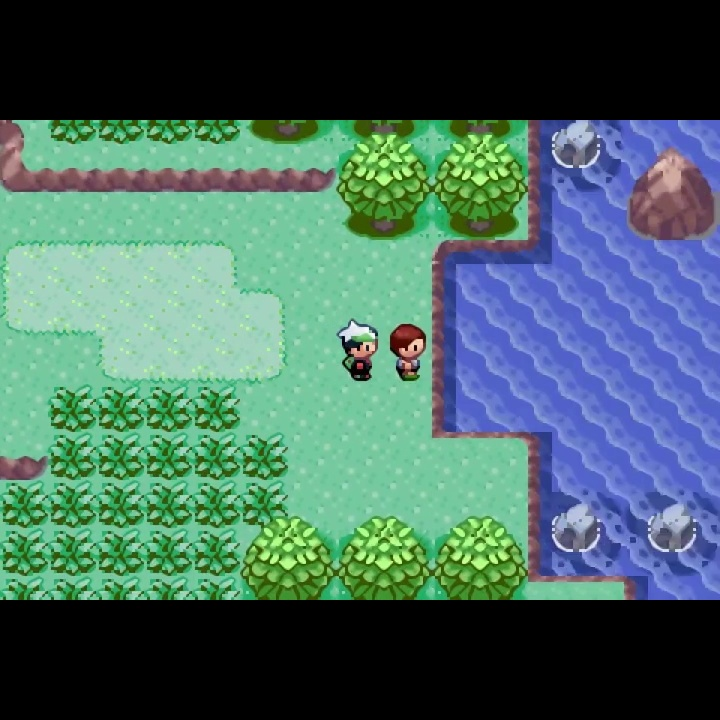grass: (96, 480, 148, 531), (142, 383, 193, 434), (48, 384, 98, 435), (49, 480, 100, 530), (239, 480, 290, 530), (47, 433, 99, 481), (192, 479, 241, 529), (1, 480, 49, 530), (1, 528, 49, 578), (192, 385, 240, 434), (96, 527, 144, 576), (145, 528, 193, 577), (194, 529, 243, 577), (240, 433, 288, 481), (98, 434, 146, 482), (145, 434, 194, 481), (50, 528, 97, 577), (97, 385, 144, 433), (193, 432, 240, 480), (145, 481, 193, 528), (144, 120, 194, 146), (48, 120, 97, 145), (96, 120, 144, 145), (193, 121, 241, 146), (49, 576, 99, 600), (1, 576, 50, 600), (193, 576, 244, 599), (145, 577, 194, 600), (98, 576, 146, 599)
npc: (334, 314, 381, 384), (386, 319, 429, 387)
wall: (336, 136, 432, 240), (432, 135, 527, 240), (241, 515, 339, 600), (433, 513, 527, 600), (338, 515, 433, 599), (247, 120, 338, 146), (336, 121, 431, 142), (432, 120, 527, 141)
